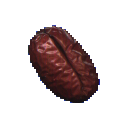ng: (22, 22, 105, 106)
